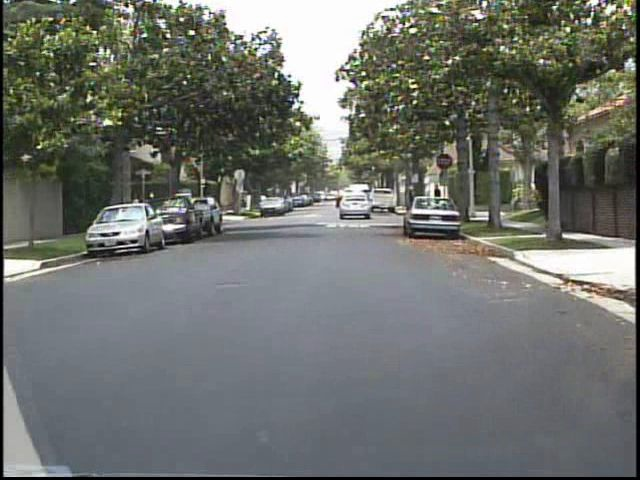person: (131, 191, 147, 229), (428, 182, 445, 213)
